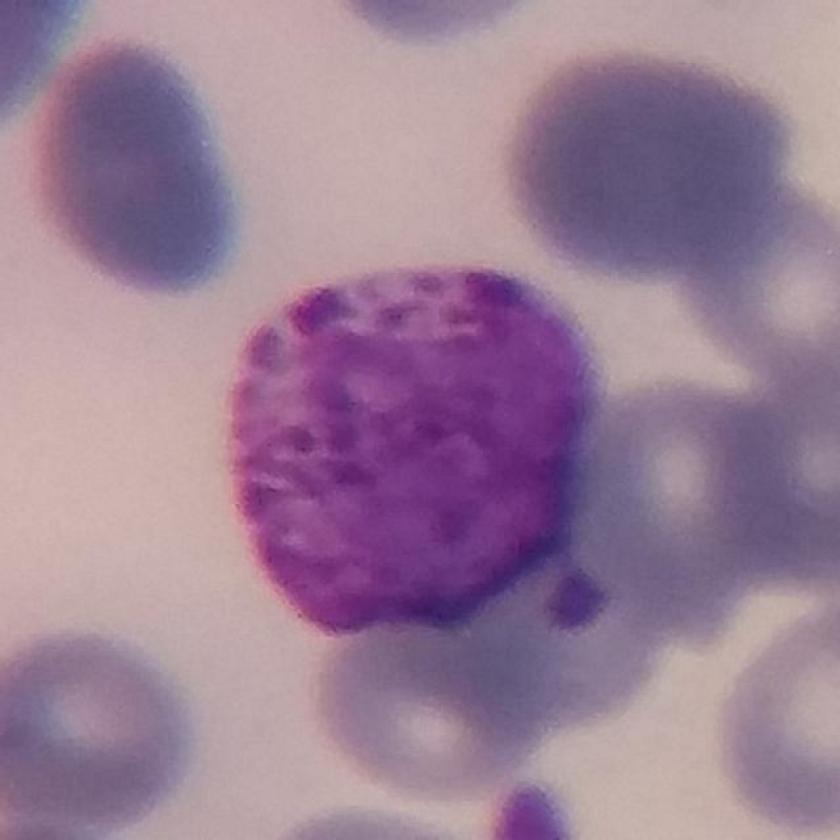basophil: (230, 258, 634, 648)
